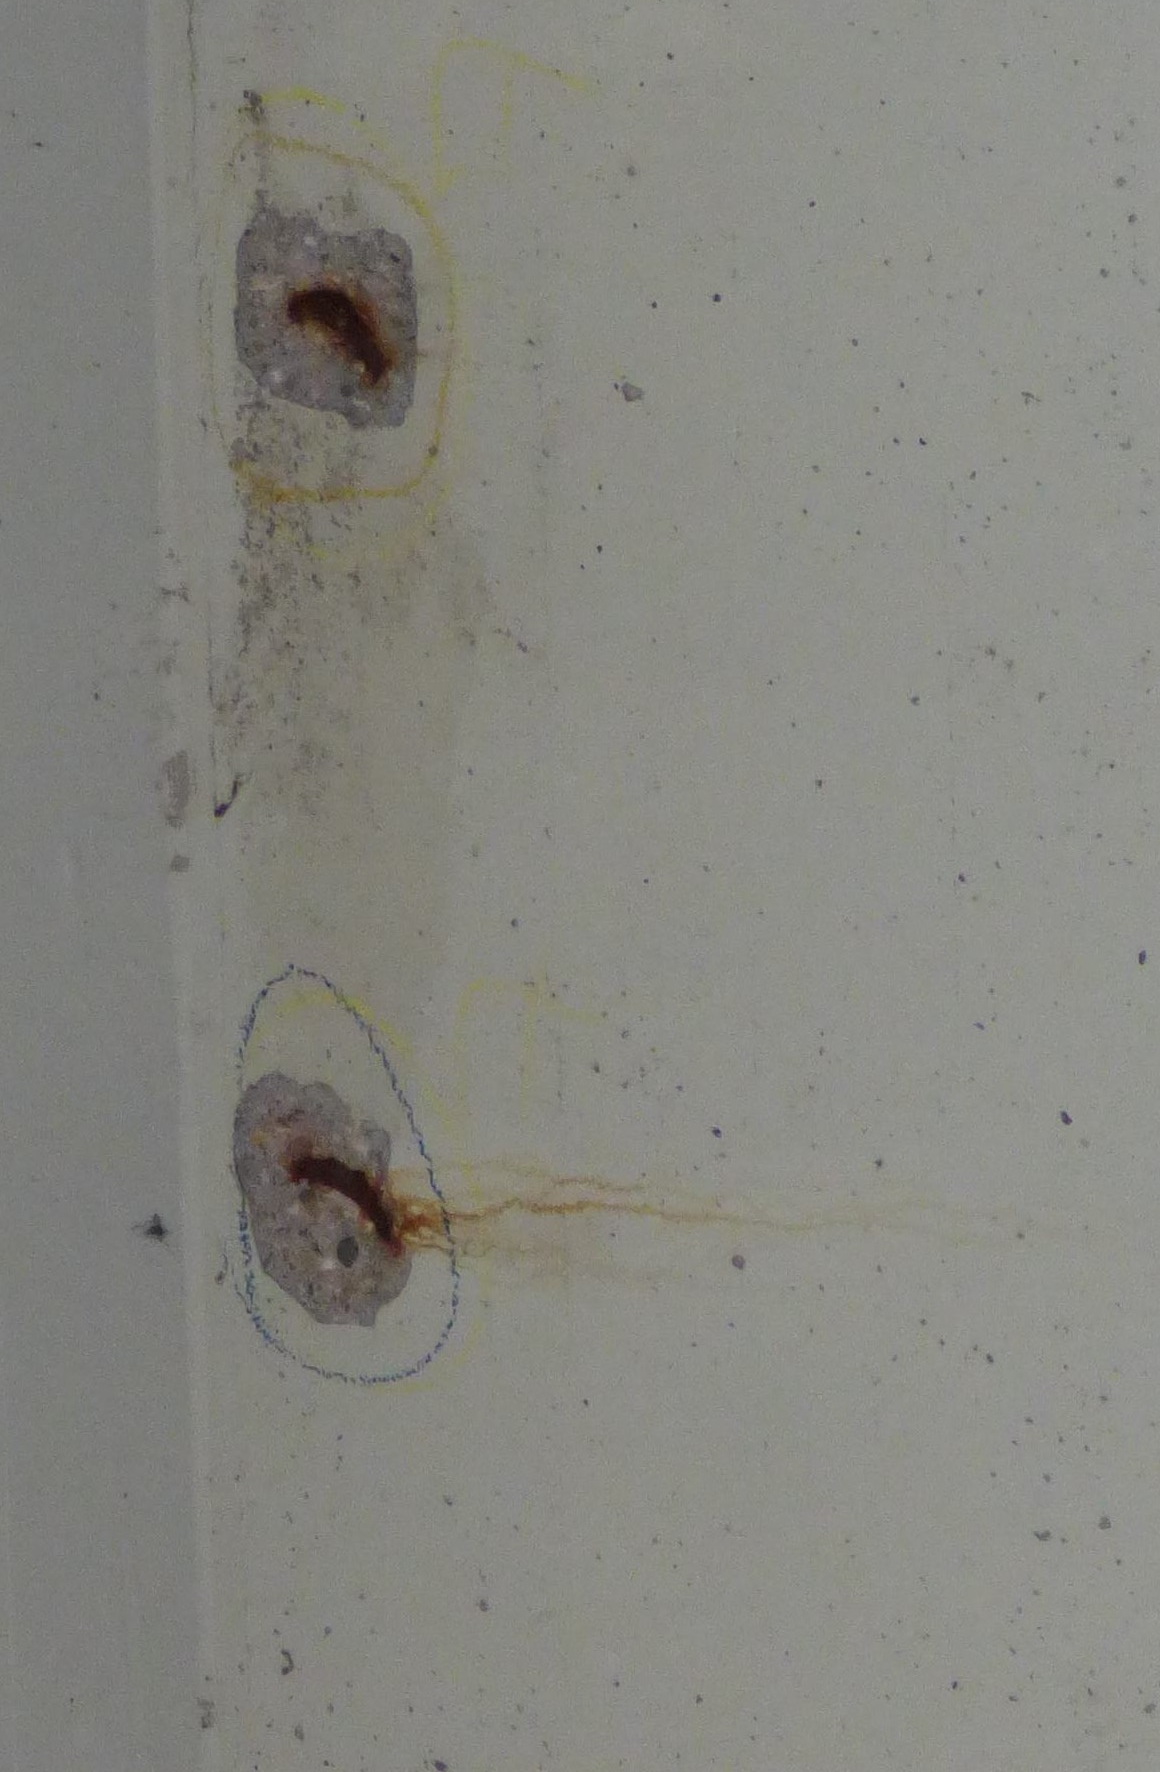Exposed reinforcement: (286, 1156, 394, 1244), (285, 290, 385, 384)
Spalling: (230, 1069, 414, 1331), (232, 208, 421, 428)
